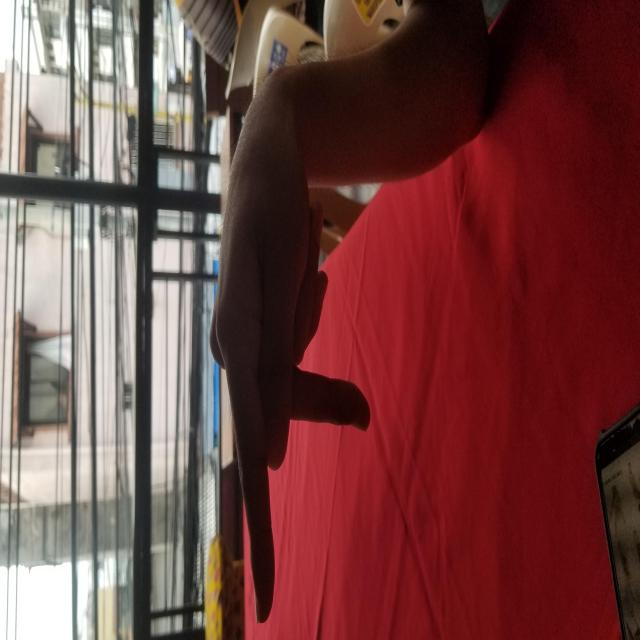P: (185, 100, 392, 638)
